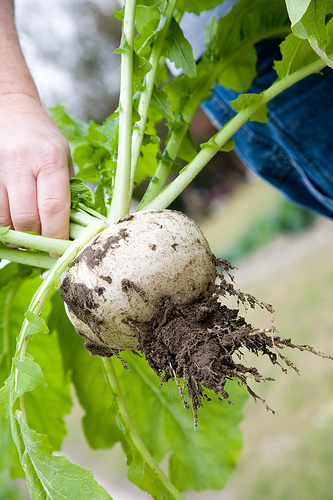turnip: (0, 0, 331, 498)
